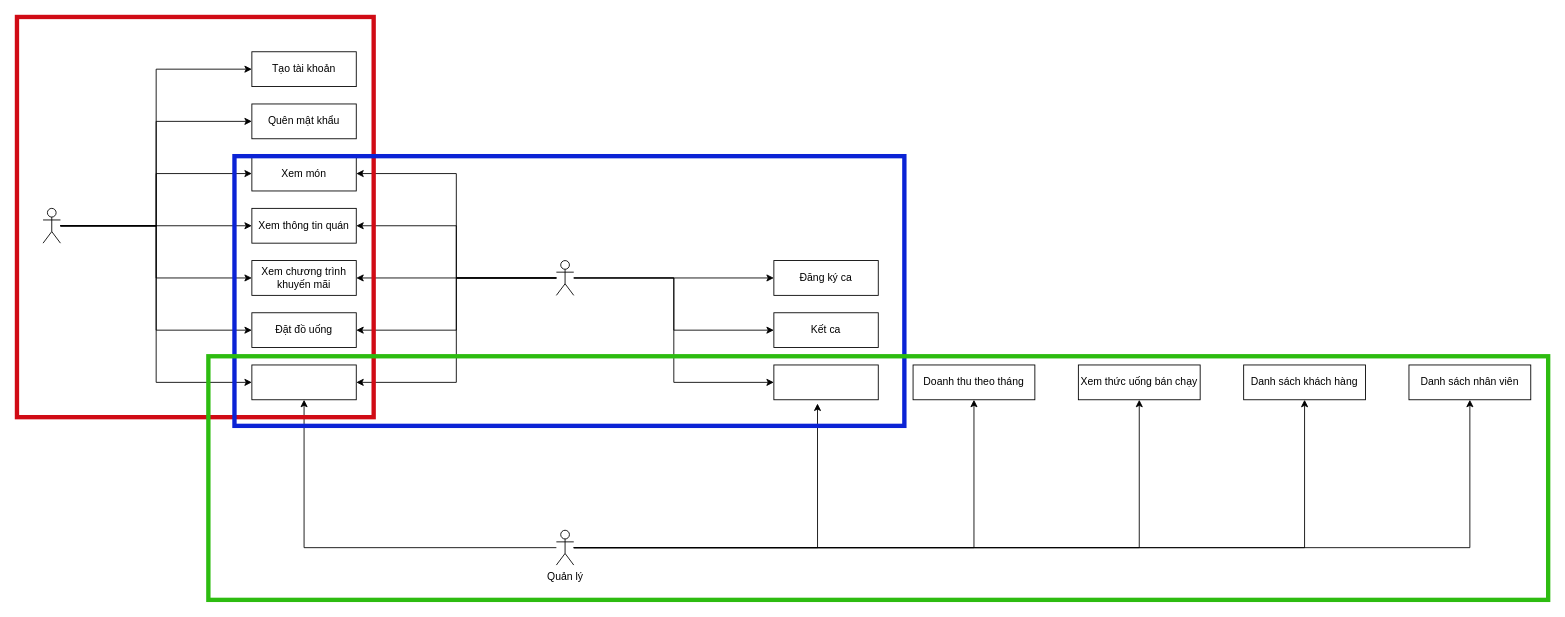
The diagram is 1565 pixels wide and 617 high, and some of its shapes have lost their labels. The box of each missing label's shape, as (x1, y1, x2, y2) in pixels:
Kho lưu trữ: (773, 364, 878, 400)
Khách hàng: (42, 207, 60, 243)
Nhân viên: (555, 260, 574, 295)
Đánh giá: (251, 364, 356, 400)
